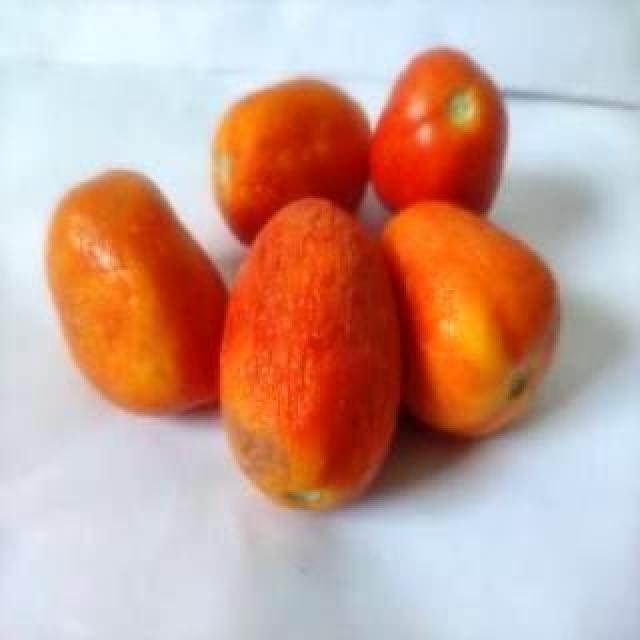Rotten_Tomato: (208, 184, 414, 540), (36, 158, 262, 434), (362, 188, 574, 464), (204, 76, 374, 262), (364, 36, 520, 234)
